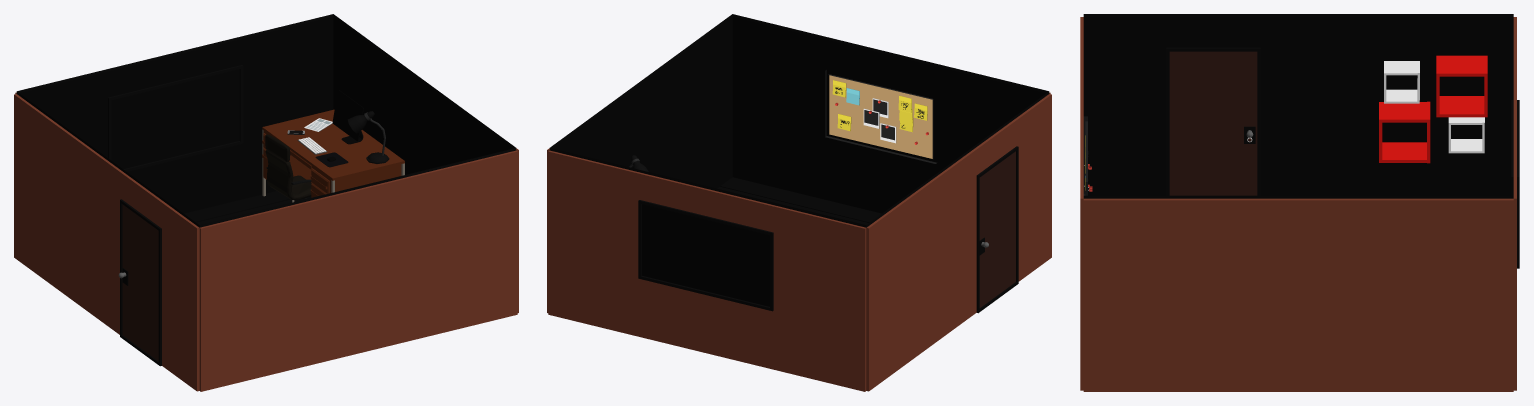
3 renders of one model, left to right at view 1: azimuth 30°, elevation 25°; view 2: azimuth 150°, elevation 25°; view 3: azimuth 270°, elevation 25°, orthographic. The views are drawn at different scales.
Parts seen in each view (by area): view 1: model:Mesh, fenetre, bureau, chaise, MonitorFBXASC046001FBXASC124iMacFBXASC124DupliFBXASC124 MonitorF, lampe; view 2: model:Mesh, fenetre, pegboard; view 3: model:Mesh, etagere, pegboard.
Part boxes in pixels (x1,y1,x2,y2): model:Mesh: (14, 14, 518, 391); fenetre: (111, 69, 239, 168); bureau: (262, 109, 404, 197); chaise: (265, 134, 311, 202); MonitorFBXASC046001FBXASC124iMacFBXASC124DupliFBXASC124 MonitorF: (332, 90, 363, 144); lampe: (347, 111, 389, 163); model:Mesh: (547, 14, 1051, 391); fenetre: (642, 204, 769, 306); pegboard: (825, 70, 936, 163); model:Mesh: (1080, 14, 1519, 391); etagere: (1379, 55, 1487, 163); pegboard: (1083, 116, 1092, 195).
Bounding box in the file's own units: 5.3 × 2.55 × 5.21.
